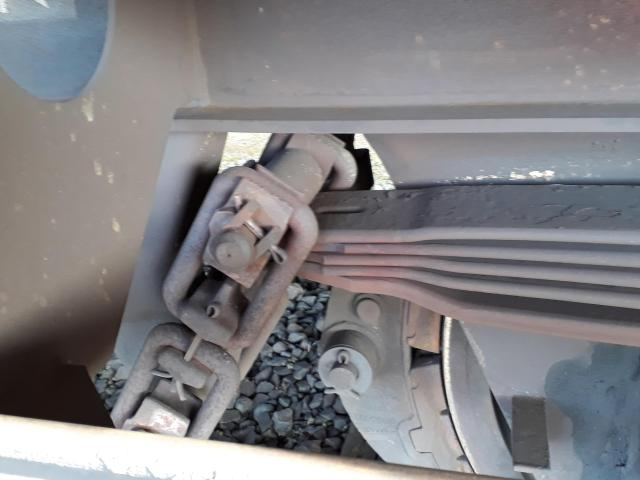blattfederww: (324, 185, 640, 328)
